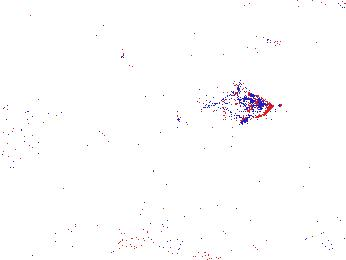X-ray fish: (203, 90, 274, 119)
red belly glassfish: (264, 33, 304, 56)
